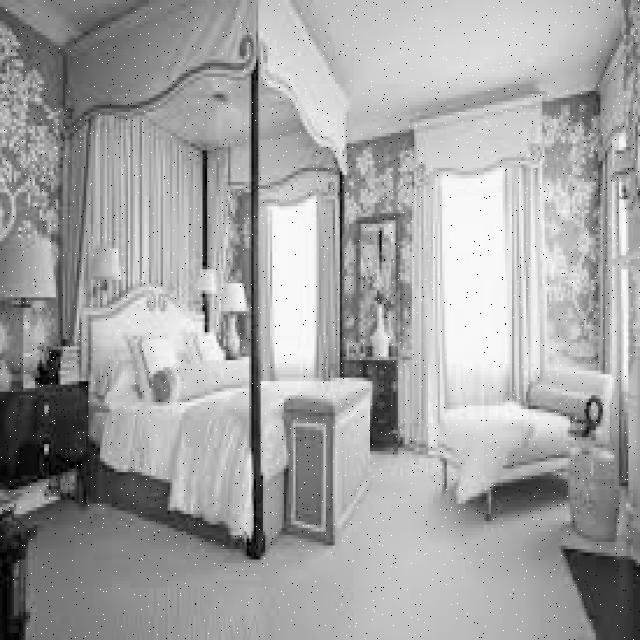bed: (73, 294, 303, 473), (432, 364, 620, 483)
